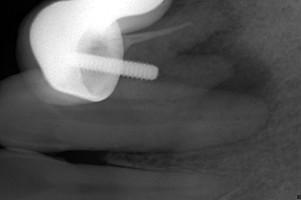Furcation Involvement: (178, 32, 274, 98)
